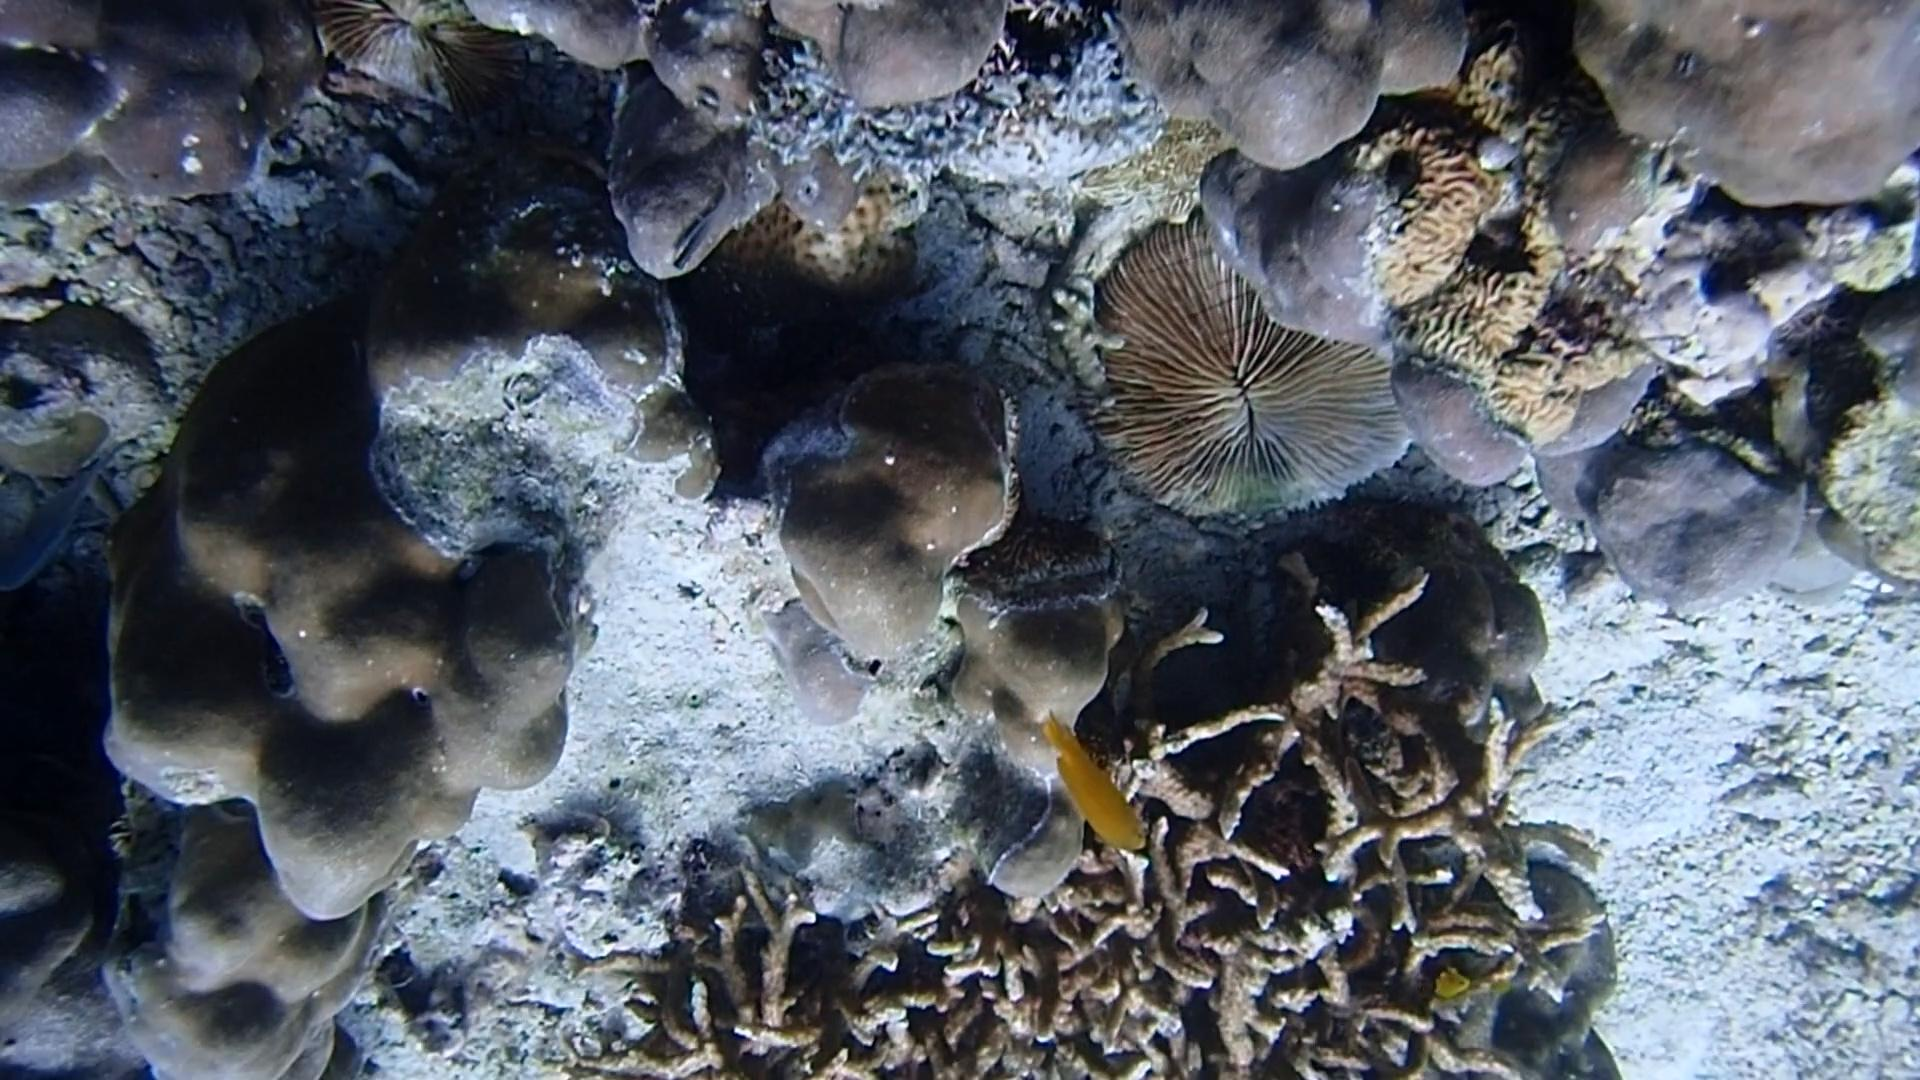Blue Fish Two: (0, 431, 148, 599)
Yellow Fish: (1034, 700, 1153, 860), (1429, 960, 1473, 1006)
